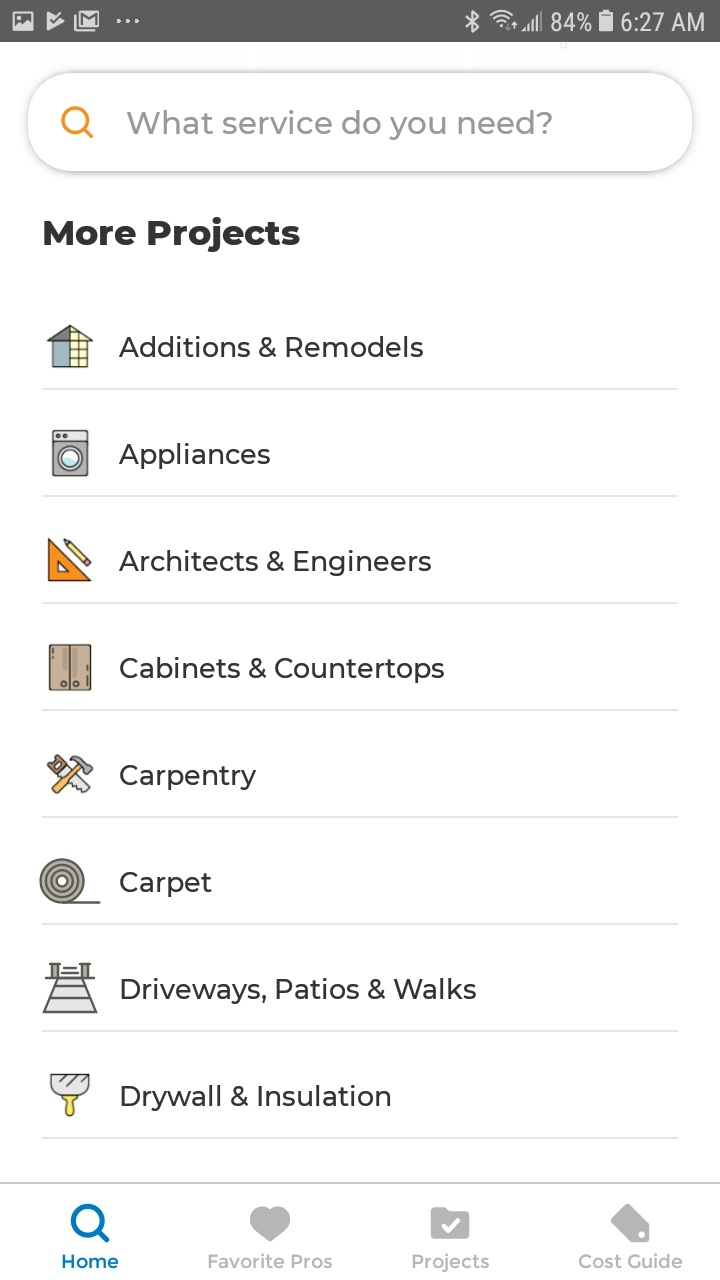EditText: (28, 73, 693, 173)
Icon: (610, 1203, 650, 1243), (71, 1203, 111, 1243), (250, 1205, 291, 1242), (430, 1207, 470, 1240), (62, 107, 95, 140)
Image: (43, 962, 100, 1014), (39, 858, 102, 905), (47, 324, 94, 369), (49, 644, 93, 692), (48, 538, 93, 583), (47, 753, 95, 794), (51, 1072, 92, 1117), (52, 430, 90, 478)
Text: (127, 110, 553, 141), (121, 977, 477, 1005), (44, 217, 301, 253), (120, 656, 445, 684), (119, 549, 432, 577), (120, 1085, 391, 1112), (119, 336, 424, 359), (119, 442, 271, 470), (120, 764, 257, 791), (120, 871, 213, 898), (209, 1252, 334, 1269), (579, 1252, 683, 1269), (412, 1252, 490, 1273), (62, 1253, 119, 1269)
UpperTaskBar: (1, 1, 720, 43)
